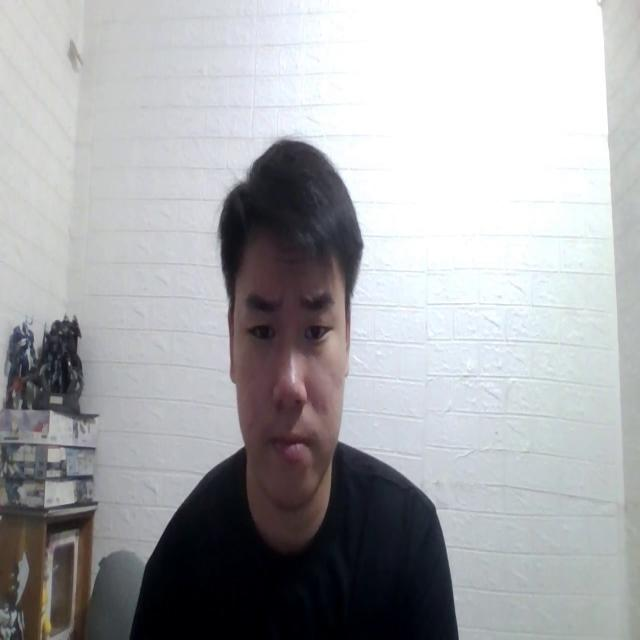student: (125, 144, 457, 640)
